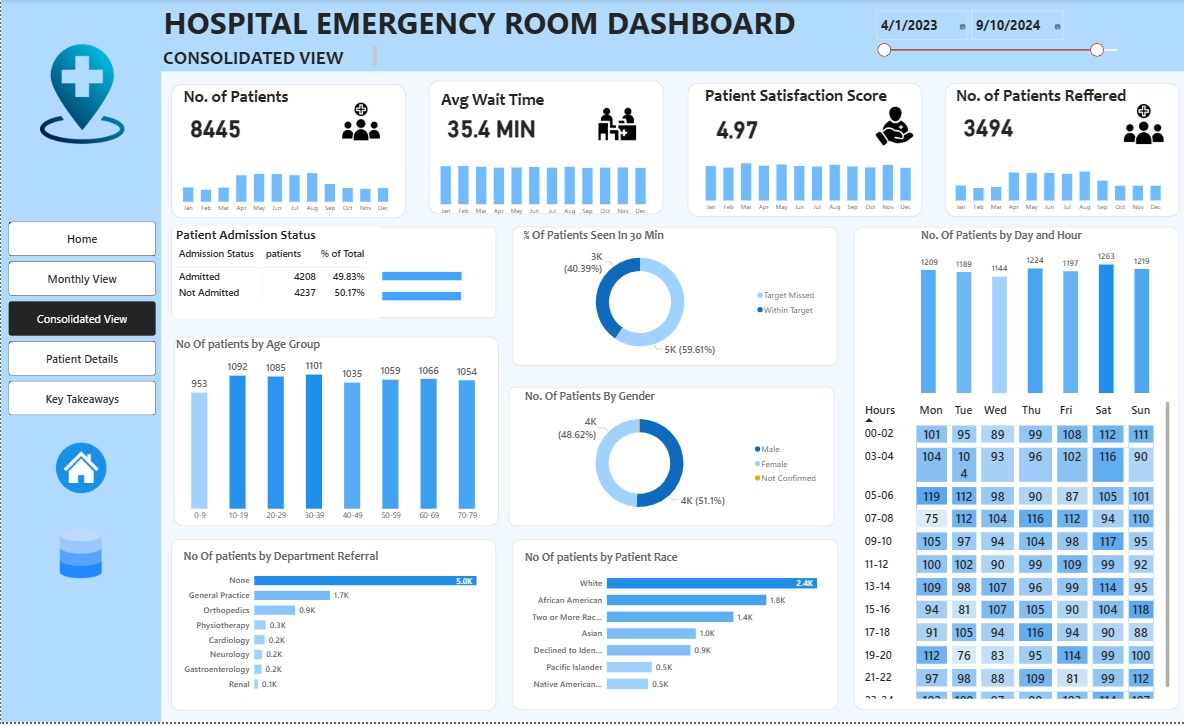

This screenshot's page, from the dashboard's own definition file:
{"tool":"powerbi","page":{"name":"Consolidated View","canvas":[2300,1400],"ordinal":2},"visuals":[{"type":"shape","box":[0,0,310,1400],"z":0},{"type":"shape","box":[330,165,455,260],"z":1000},{"type":"shape","box":[310,0,1990,140],"z":2000},{"type":"textbox","box":[310,0,1277.5,87.5],"z":3000},{"type":"textbox","box":[310,87.5,422.5,52.5],"z":4000},{"type":"card","fields":{"Values":["Hospital ER_Data.No Of patients"]},"box":[347.5,202.5,135,87.5],"z":5000},{"type":"slicer","fields":{"Values":["Date Table.Date"]},"box":[1680,12.5,500,115],"z":6000},{"type":"textbox","box":[347.5,165,270,52.5],"z":7000},{"type":"columnChart","fields":{"Y":["Hospital ER_Data.No Of patients"],"Category":["Date Table.Month Name"]},"box":[334,298,435,125],"z":8000},{"type":"shape","box":[828.4,156.3,455,260],"z":9000},{"type":"card","fields":{"Values":["Hospital ER_Data.Avg Wait Time"]},"box":[842.5,202.5,215,87.5],"z":10000},{"type":"textbox","box":[846.1,169.1,270,52.5],"z":11000},{"type":"columnChart","fields":{"Category":["Date Table.Month Name"],"Y":["Avg(Hospital ER_Data.Patient Waittime)"]},"box":[832.6,302.1,435,125],"z":12000},{"type":"shape","box":[1326.8,161.4,455,260],"z":13000},{"type":"card","fields":{"Values":["Hospital ER_Data.Satisfaction Score"]},"box":[1357.5,205,135,87.5],"z":14000},{"type":"textbox","box":[1357.5,162.5,387.5,52.5],"z":15000},{"type":"columnChart","fields":{"Y":["Hospital ER_Data.Satisfaction Score"],"Category":["Date Table.Month Name"]},"box":[1344.9,294.4,435,125],"z":16000},{"type":"shape","box":[1825.3,163.3,455,260],"z":17000},{"type":"card","fields":{"Values":["Hospital ER_Data.No of patients reffered"]},"box":[1842.5,200,135,87.5],"z":18000},{"type":"textbox","box":[1842.5,162.5,375,52.5],"z":19000},{"type":"columnChart","fields":{"Y":["Hospital ER_Data.No of patients reffered"],"Category":["Date Table.Month Name"]},"box":[1829.2,296.3,435,125],"z":20000},{"type":"shape","box":[330,440,630,177],"z":21000},{"type":"pivotTable","title":"Patient Admission Status","fields":{"Values":["Hospital ER_Data.No Of patients","Divide(Hospital ER_Data.No Of patients, ScopedEval(Hospital ER_Data.No Of patients, []))"],"Rows":["Hospital ER_Data.Admission Status"]},"box":[335,440,397.5,177.5],"z":22000},{"type":"barChart","fields":{"Category":["Hospital ER_Data.Admission Status"],"Y":["Hospital ER_Data.No Of patients"]},"box":[732.5,495,227.5,115],"z":23000},{"type":"shape","box":[335,652.5,630,367.5],"z":24000},{"type":"clusteredColumnChart","fields":{"Category":["Hospital ER_Data.Age Group"],"Y":["Hospital ER_Data.No Of patients"]},"box":[335,652.5,620,367.5],"z":25000},{"type":"shape","box":[330,1045,630,332.5],"z":26000},{"type":"clusteredBarChart","fields":{"Category":["Hospital ER_Data.Department Referral"],"Y":["Hospital ER_Data.No Of patients"]},"box":[347.5,1065,602.5,287.5],"z":27000},{"type":"shape","box":[990,440,630,270],"z":28000},{"type":"donutChart","title":"% Of Patients Seen In 30 Min","fields":{"Category":["Hospital ER_Data.Waittime Status"],"Y":["Hospital ER_Data.No Of patients"]},"box":[1006,442,582,260],"z":29000},{"type":"shape","box":[982,749.8,631.3,270.9],"z":30000},{"type":"donutChart","title":"No. Of Patients By Gender","fields":{"Y":["Hospital ER_Data.No Of patients"],"Category":["Hospital ER_Data.Patient Gender"]},"box":[1008.6,754.7,582.9,258.8],"z":31000},{"type":"shape","box":[989.3,1044.9,631.3,331.4],"z":32000},{"type":"clusteredBarChart","fields":{"Y":["Hospital ER_Data.No Of patients"],"Category":["Hospital ER_Data.Patient Race"]},"box":[1008.6,1066.7,602.3,287.8],"z":33000},{"type":"shape","box":[1649.6,440.2,631.3,936.1],"z":34000},{"type":"pivotTable","fields":{"Rows":["Hospital ER_Data.Waittime Interval"],"Columns":["Date Table.Day Name"],"Values":["Hospital ER_Data.No Of patients"]},"box":[1662.5,775,605,585],"z":35000},{"type":"columnChart","title":"No. Of Patients by Day and Hour","fields":{"Category":["Date Table.Day Name"],"Y":["Hospital ER_Data.No Of patients"]},"box":[1776,442,454,326],"z":36000},{"type":"image","box":[56.7,83.3,203.3,203.3],"z":37000},{"type":"image","box":[652.5,195,87.5,82.5],"z":38000},{"type":"image","box":[1150,200,87.5,82.5],"z":39000},{"type":"image","box":[2162.5,197.5,97.5,87.5],"z":40000},{"type":"image","box":[1680,197.5,95,95],"z":41000},{"type":"pageNavigator","box":[15,430,285,377.5],"z":42000},{"type":"image","box":[102.5,855,107.5,107.5],"z":43000},{"type":"image","box":[95,1020,120,105],"z":44000}]}

Visuals, with their boxes in screenshot pixels (x1, y1, x2, y2), scaled from the page's 2300x1400 canvas onto the 1184x726 screenshot:
shape: detection(0, 0, 160, 725)
shape: detection(170, 86, 404, 220)
shape: detection(160, 0, 1183, 73)
textbox: detection(160, 0, 817, 45)
textbox: detection(160, 45, 377, 73)
card - Hospital ER_Data.No Of patients: detection(179, 105, 248, 150)
slicer - Date Table.Date: detection(865, 6, 1122, 66)
textbox: detection(179, 86, 318, 113)
columnChart - Hospital ER_Data.No Of patients x Date Table.Month Name: detection(172, 155, 396, 219)
shape: detection(426, 81, 661, 216)
card - Hospital ER_Data.Avg Wait Time: detection(434, 105, 544, 150)
textbox: detection(436, 88, 575, 115)
columnChart - Date Table.Month Name x Avg(Hospital ER_Data.Patient Waittime): detection(429, 157, 653, 221)
shape: detection(683, 84, 917, 219)
card - Hospital ER_Data.Satisfaction Score: detection(699, 106, 768, 152)
textbox: detection(699, 84, 898, 111)
columnChart - Hospital ER_Data.Satisfaction Score x Date Table.Month Name: detection(692, 153, 916, 217)
shape: detection(940, 85, 1174, 220)
card - Hospital ER_Data.No of patients reffered: detection(948, 104, 1018, 149)
textbox: detection(948, 84, 1142, 111)
columnChart - Hospital ER_Data.No of patients reffered x Date Table.Month Name: detection(942, 154, 1166, 218)
shape: detection(170, 228, 494, 320)
"Patient Admission Status" pivotTable: detection(172, 228, 377, 320)
barChart - Hospital ER_Data.Admission Status x Hospital ER_Data.No Of patients: detection(377, 257, 494, 316)
shape: detection(172, 338, 497, 529)
clusteredColumnChart - Hospital ER_Data.Age Group x Hospital ER_Data.No Of patients: detection(172, 338, 492, 529)
shape: detection(170, 542, 494, 714)
clusteredBarChart - Hospital ER_Data.Department Referral x Hospital ER_Data.No Of patients: detection(179, 552, 489, 701)
shape: detection(510, 228, 834, 368)
"% Of Patients Seen In 30 Min" donutChart: detection(518, 229, 817, 364)
shape: detection(506, 389, 830, 529)
"No. Of Patients By Gender" donutChart: detection(519, 391, 819, 526)
shape: detection(509, 542, 834, 714)
clusteredBarChart - Hospital ER_Data.No Of patients x Hospital ER_Data.Patient Race: detection(519, 553, 829, 702)
shape: detection(849, 228, 1174, 714)
pivotTable - Hospital ER_Data.Waittime Interval x Date Table.Day Name: detection(856, 402, 1167, 705)
"No. Of Patients by Day and Hour" columnChart: detection(914, 229, 1148, 398)
image: detection(29, 43, 134, 149)
image: detection(336, 101, 381, 144)
image: detection(592, 104, 637, 146)
image: detection(1113, 102, 1163, 148)
image: detection(865, 102, 914, 152)
pageNavigator: detection(8, 223, 154, 419)
image: detection(53, 443, 108, 499)
image: detection(49, 529, 111, 583)
